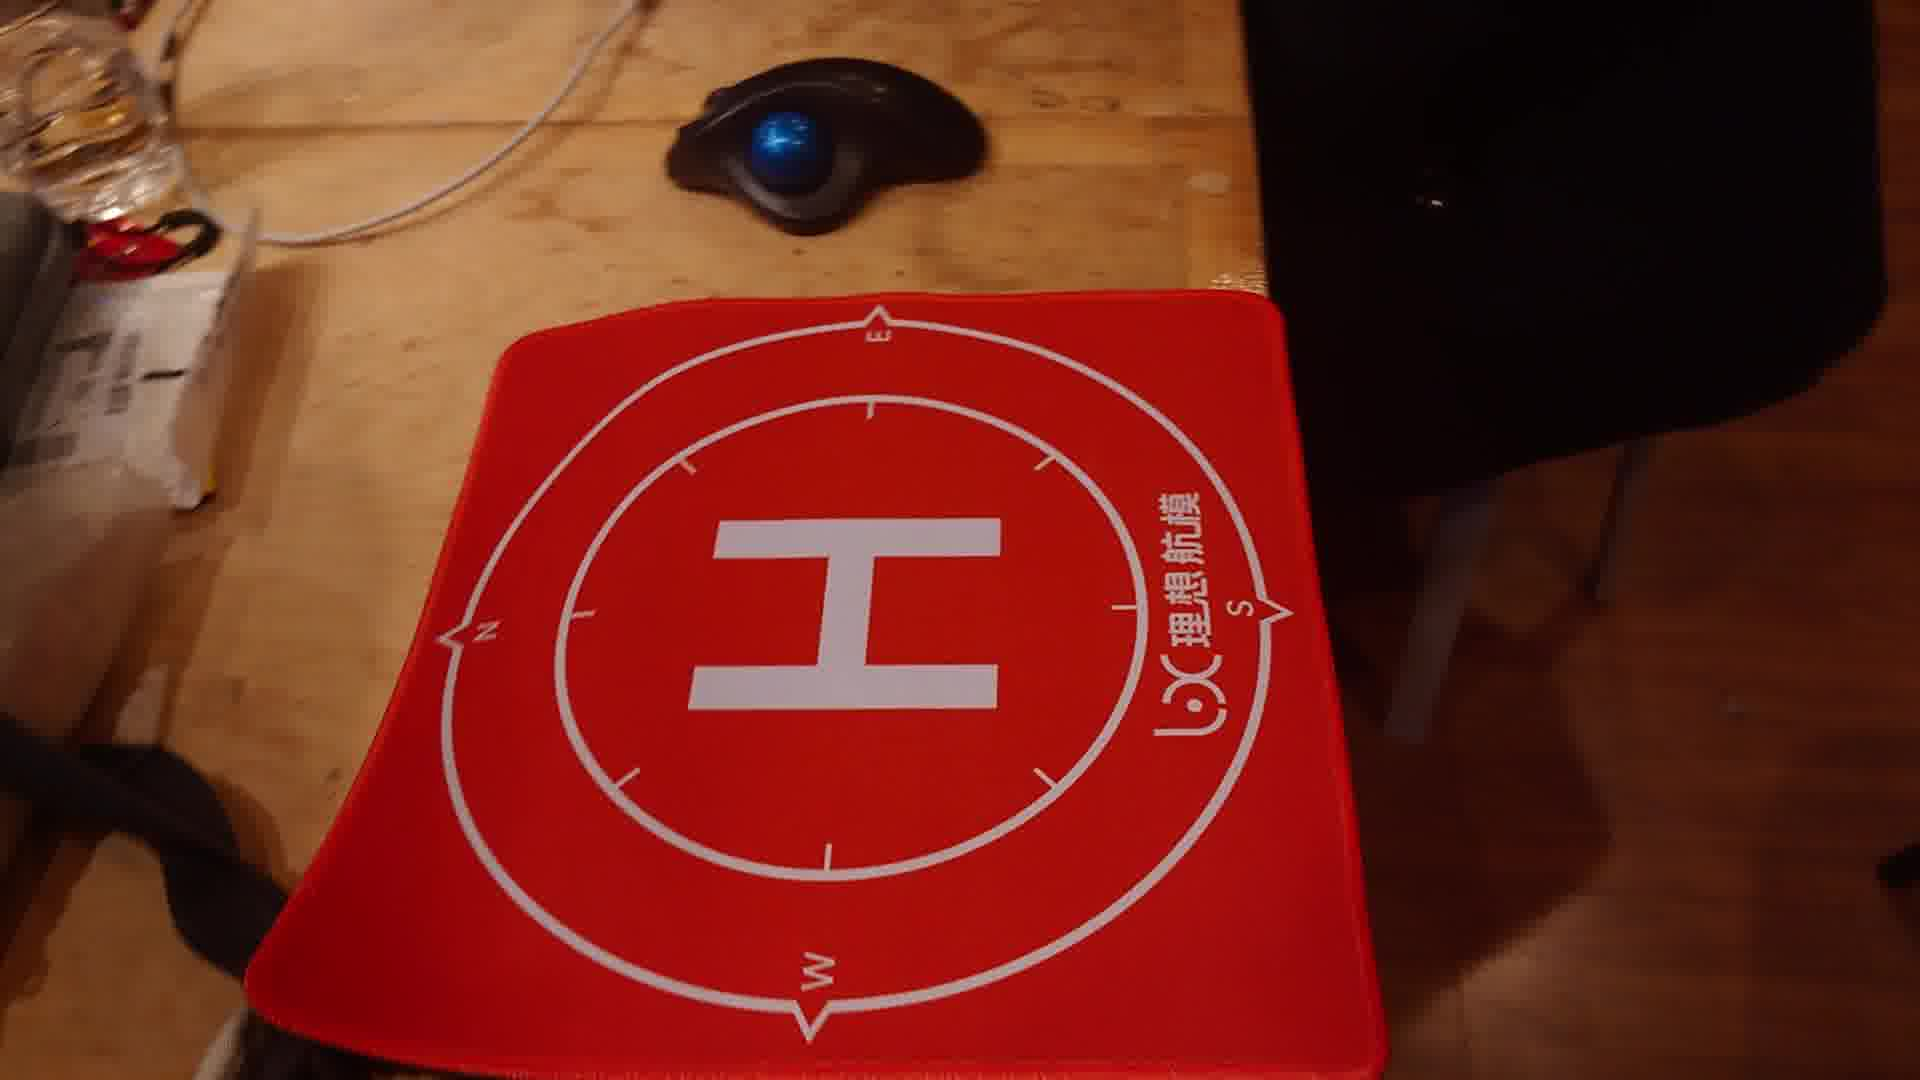H: (684, 517, 1004, 712)
